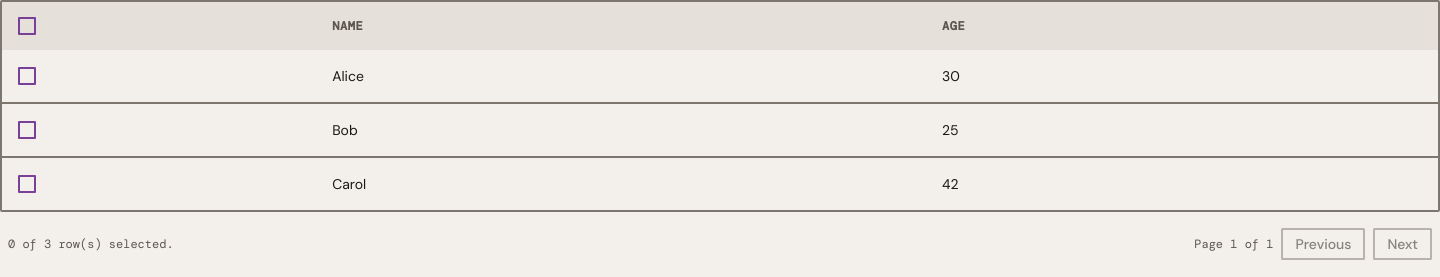
it: DataTable row selection via createSelectColumn › clicking a row checkbox updates the selected-rows counter
Expected: the text "0 of 3 row(s) selected." is shown, [8,236,174,252]
Click the checkbox named "Select row" in the row of "Alice".
click(27, 76)  # box [18,67,36,85]
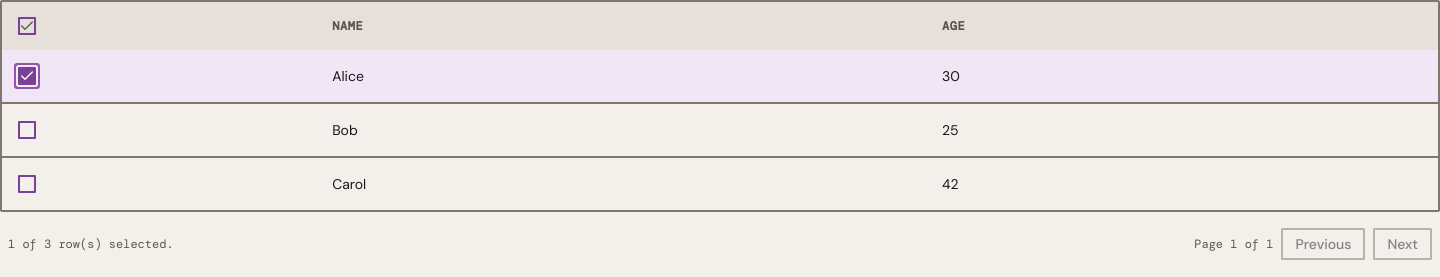
Expected: the text "1 of 3 row(s) selected." is shown, [8,236,174,252]
